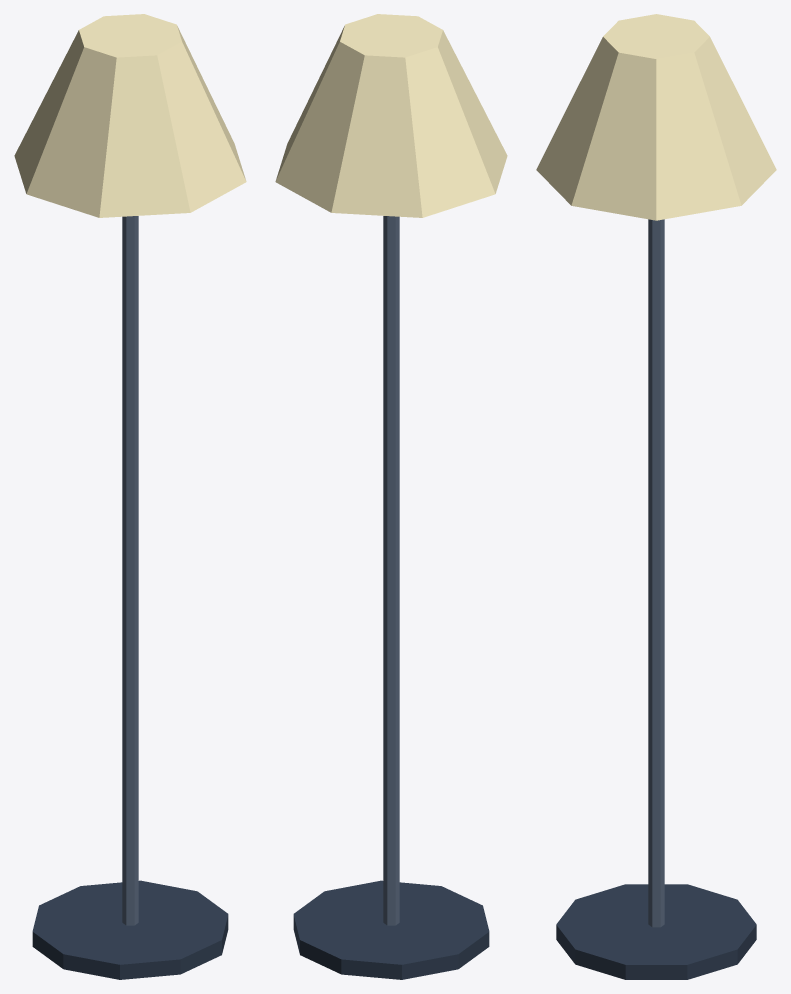
File: floor-lamp.glb
3 renders of one model, left to right at view 1: azimuth 30°, elevation 25°; view 2: azimuth 150°, elevation 25°; view 3: azimuth 270°, elevation 25°, orthographic.
Parts seen in each view (by area): view 1: FloorLamp; view 2: FloorLamp; view 3: FloorLamp.
Part boxes in pixels (x1,y1,x2,y2): FloorLamp: (14, 14, 246, 979); FloorLamp: (275, 14, 507, 979); FloorLamp: (536, 14, 776, 979).
Bounding box in the file's own units: 0.36 × 1.49 × 0.36.
